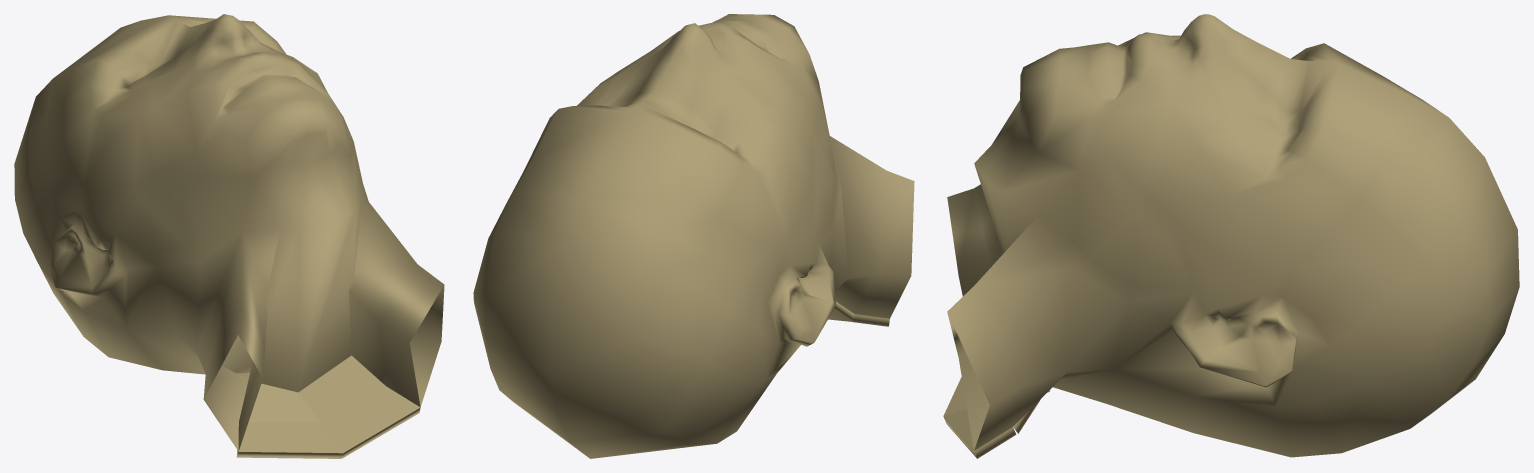
The picture shows the model from 3 angles, left to right: view 1: azimuth 30°, elevation 25°; view 2: azimuth 150°, elevation 25°; view 3: azimuth 270°, elevation 25°; orthographic projection. The views are drawn at different scales.
Parts seen in each view (by area): view 1: polySurface1; view 2: polySurface1; view 3: polySurface1.
Part boxes in pixels (<box>): polySurface1: <box>14,14,444,458</box>; polySurface1: <box>473,14,914,458</box>; polySurface1: <box>943,14,1519,458</box>.
Bounding box in the file's own units: 21.06 × 25.87 × 31.7.
